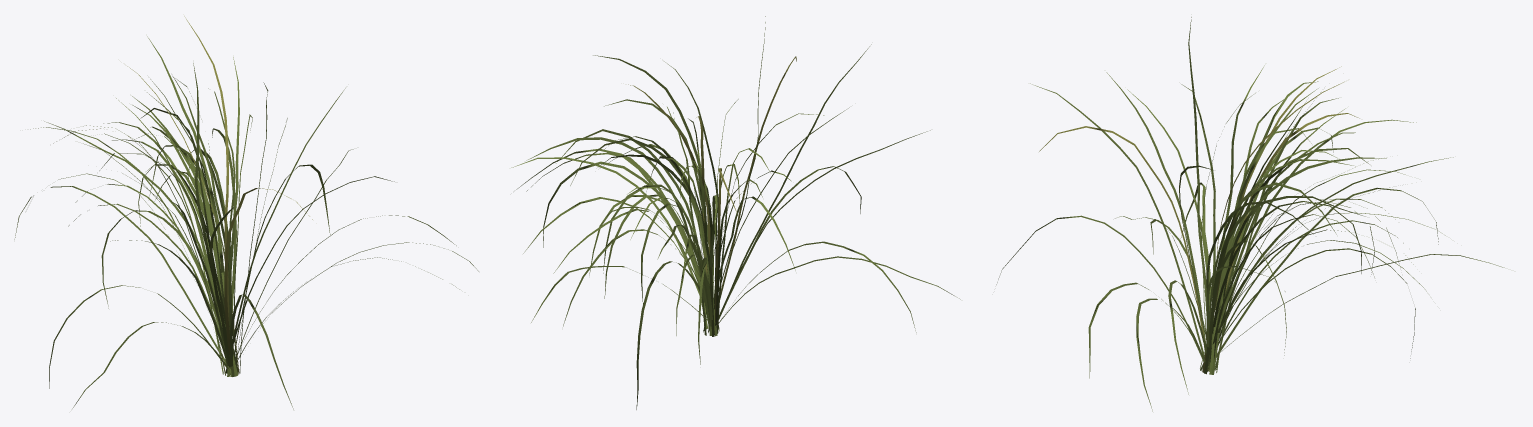
Rendered from capim_1.glb.
The picture shows the model from 3 angles, left to right: view 1: azimuth 30°, elevation 25°; view 2: azimuth 150°, elevation 25°; view 3: azimuth 270°, elevation 25°; orthographic projection. The views are drawn at different scales.
Visible parts, largest first — view 1: capim_1; view 2: capim_1; view 3: capim_1.
Part boxes in pixels (left/top/right/bottom): capim_1: left=14, top=16, right=478, bottom=409; capim_1: left=511, top=16, right=960, bottom=409; capim_1: left=996, top=17, right=1504, bottom=411.
Size of the model in its own units: 1.51 by 1.12 by 1.58.
